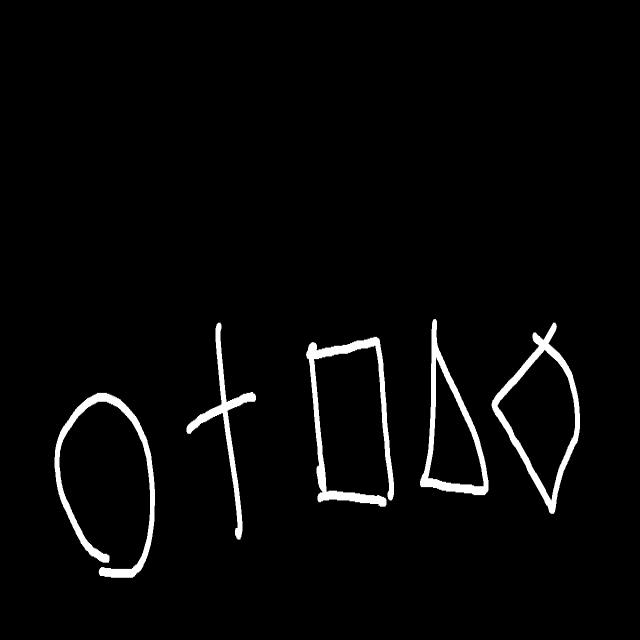circle: (54, 393, 155, 578)
cross: (186, 323, 256, 540)
diamond: (492, 323, 580, 513)
rectangle: (306, 337, 394, 507)
triangle: (420, 319, 488, 495)
